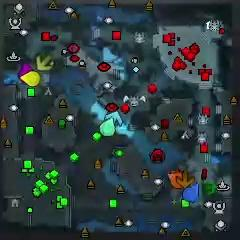p1: (182, 182, 199, 203)
p2: (100, 118, 116, 138)
p3: (19, 63, 33, 80)
p4: (21, 70, 41, 86)
p5: (167, 172, 184, 188)
x2: (36, 53, 53, 73)
x3: (105, 111, 123, 126)
x4: (204, 179, 216, 198)
x5: (175, 170, 196, 188)
